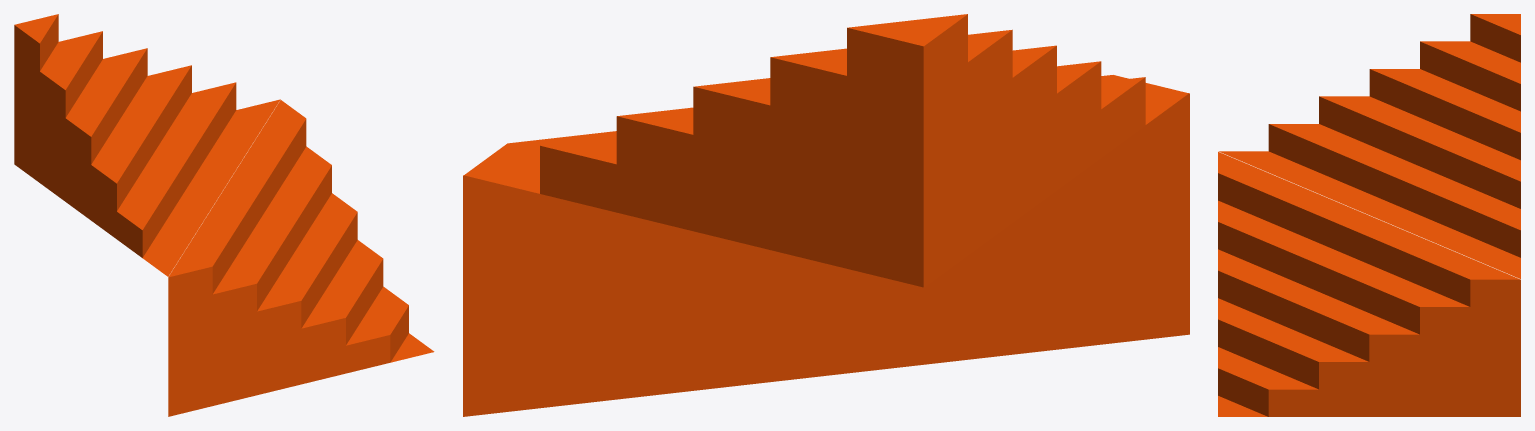
3 renders of one model, left to right at view 1: azimuth 30°, elevation 25°; view 2: azimuth 150°, elevation 25°; view 3: azimuth 270°, elevation 25°, orthographic. The views are drawn at different scales.
Parts seen in each view (by area): view 1: T_27_f_0; view 2: T_27_f_0; view 3: T_27_f_0.
Part boxes in pixels (x1,y1,x2,y2): T_27_f_0: [14, 14, 434, 416]; T_27_f_0: [463, 14, 1189, 416]; T_27_f_0: [1218, 14, 1520, 416].
Size of the model in its own units: 99.79 by 99.96 by 99.81.
